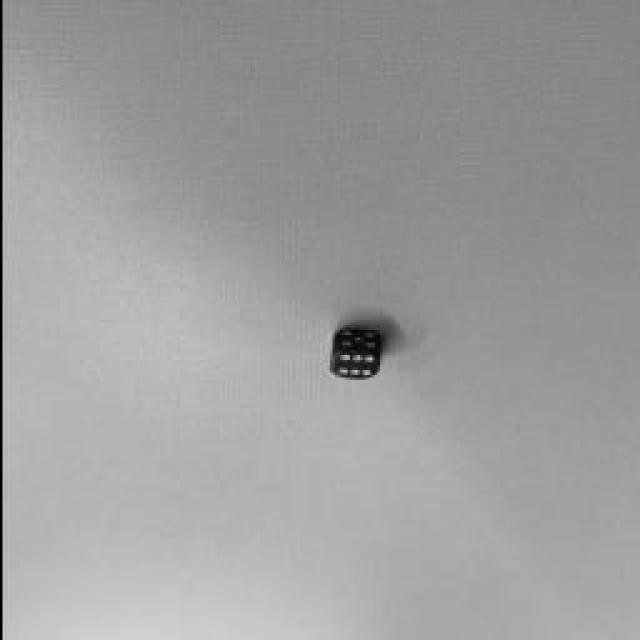dice_6: (328, 349, 380, 379)
